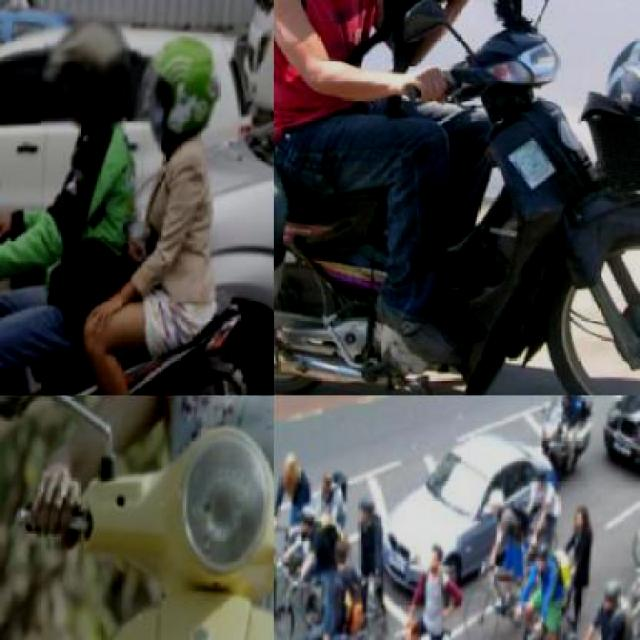With Helmet: (128, 23, 232, 155), (37, 2, 141, 132), (608, 565, 629, 606), (538, 532, 558, 573), (303, 617, 339, 638), (532, 453, 553, 489), (359, 489, 379, 525), (565, 618, 589, 638)
Without Helmet: (423, 526, 459, 574), (282, 448, 304, 488), (274, 534, 281, 577)
